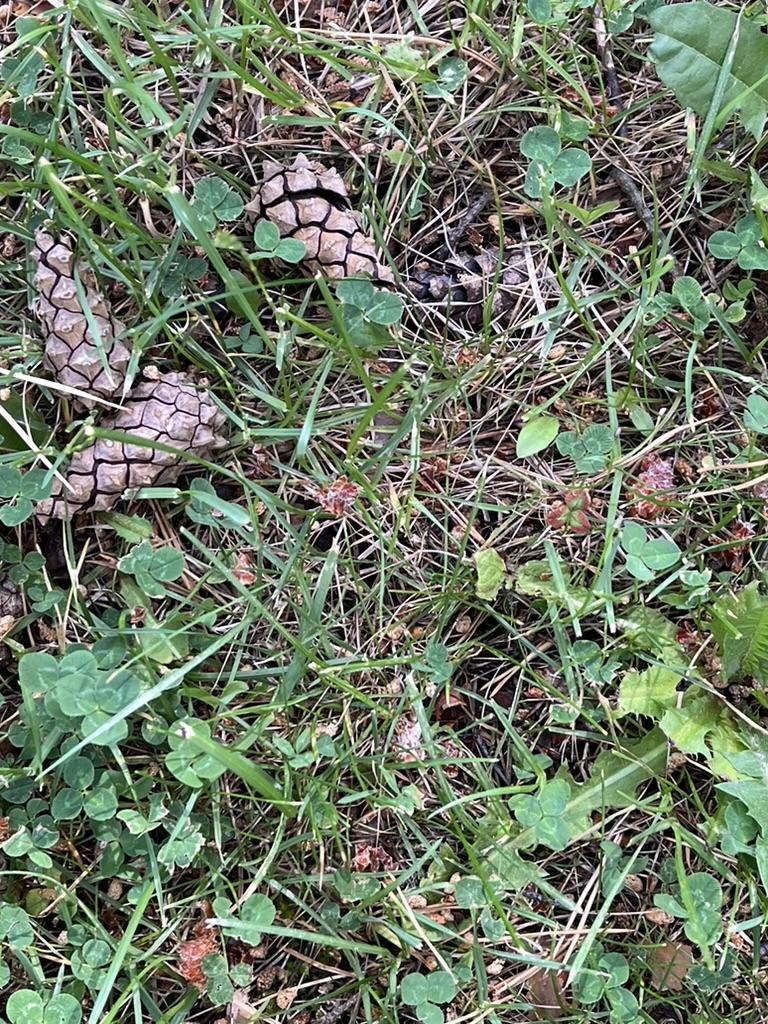pine: (11, 368, 228, 543), (231, 146, 416, 330), (19, 213, 144, 413)
